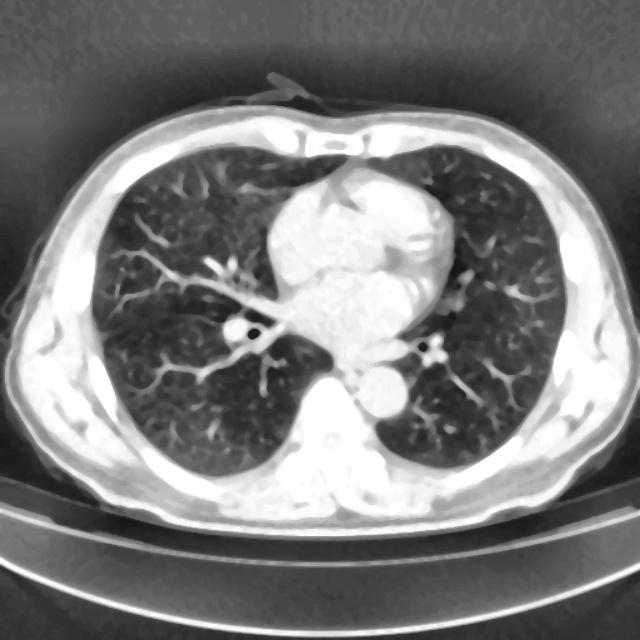covid: (2, 87, 638, 539)
